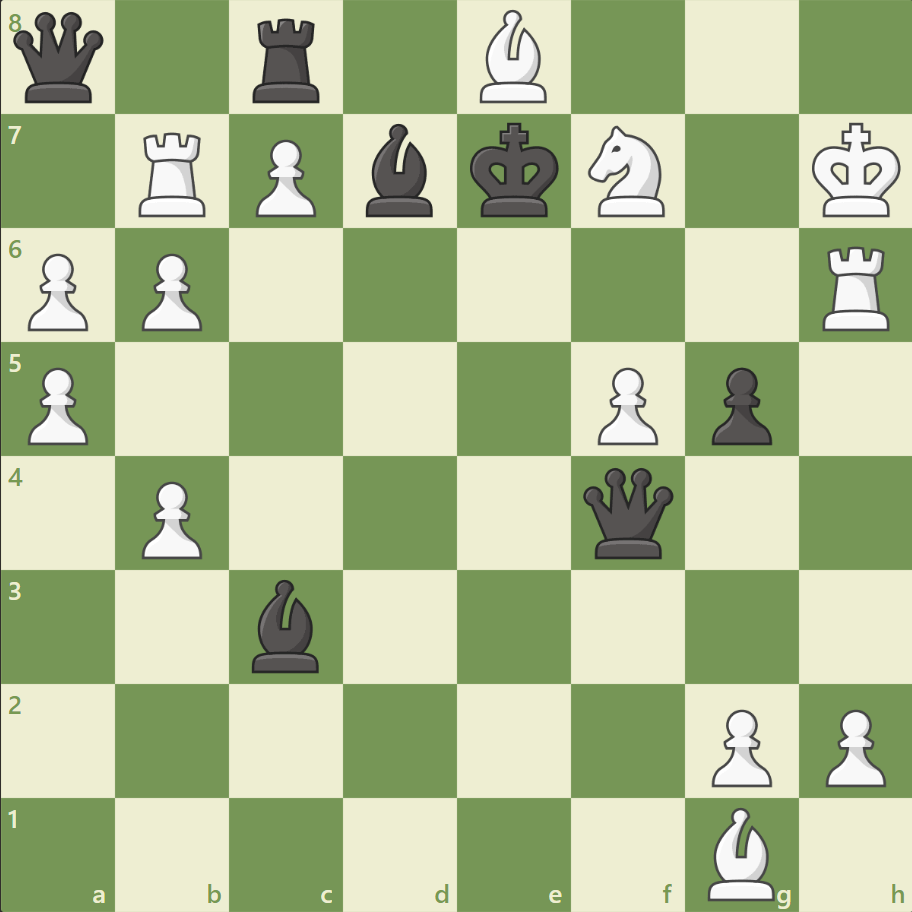B: (471, 6, 555, 109), (698, 801, 782, 904)
K: (806, 117, 906, 225)
N: (579, 121, 676, 223)
P: (247, 132, 322, 223), (20, 246, 95, 337), (133, 246, 208, 337), (20, 359, 95, 450), (133, 473, 208, 564), (701, 700, 776, 791), (588, 359, 662, 450), (815, 700, 889, 791)
R: (814, 239, 897, 336), (133, 125, 215, 222)
b: (358, 120, 442, 222), (244, 574, 328, 676)
k: (465, 117, 565, 225)
p: (701, 359, 776, 450)
q: (10, 9, 109, 108), (578, 463, 677, 562)
r: (246, 12, 329, 109)
